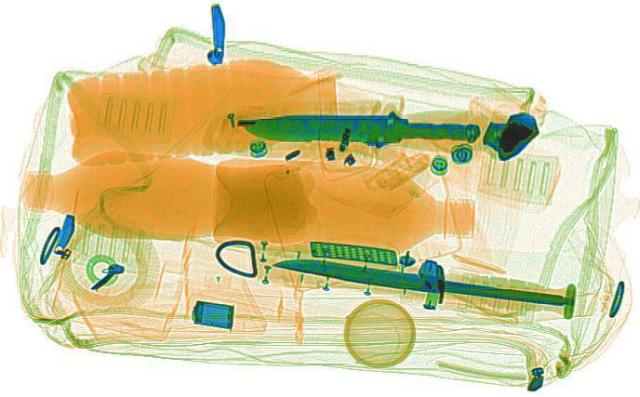Knife: (258, 238, 586, 324), (236, 106, 480, 147)
